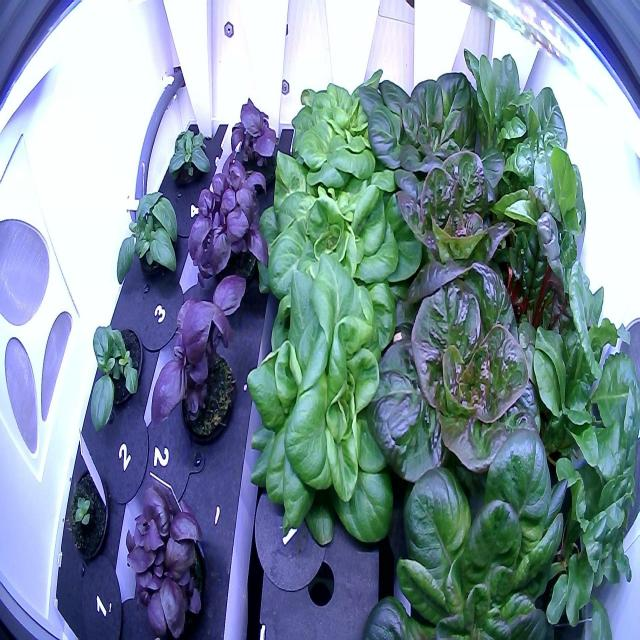Ready: (362, 230, 558, 542), (354, 403, 592, 640), (239, 250, 420, 554), (253, 148, 422, 341), (372, 141, 527, 341), (359, 43, 507, 232), (283, 62, 410, 202)
